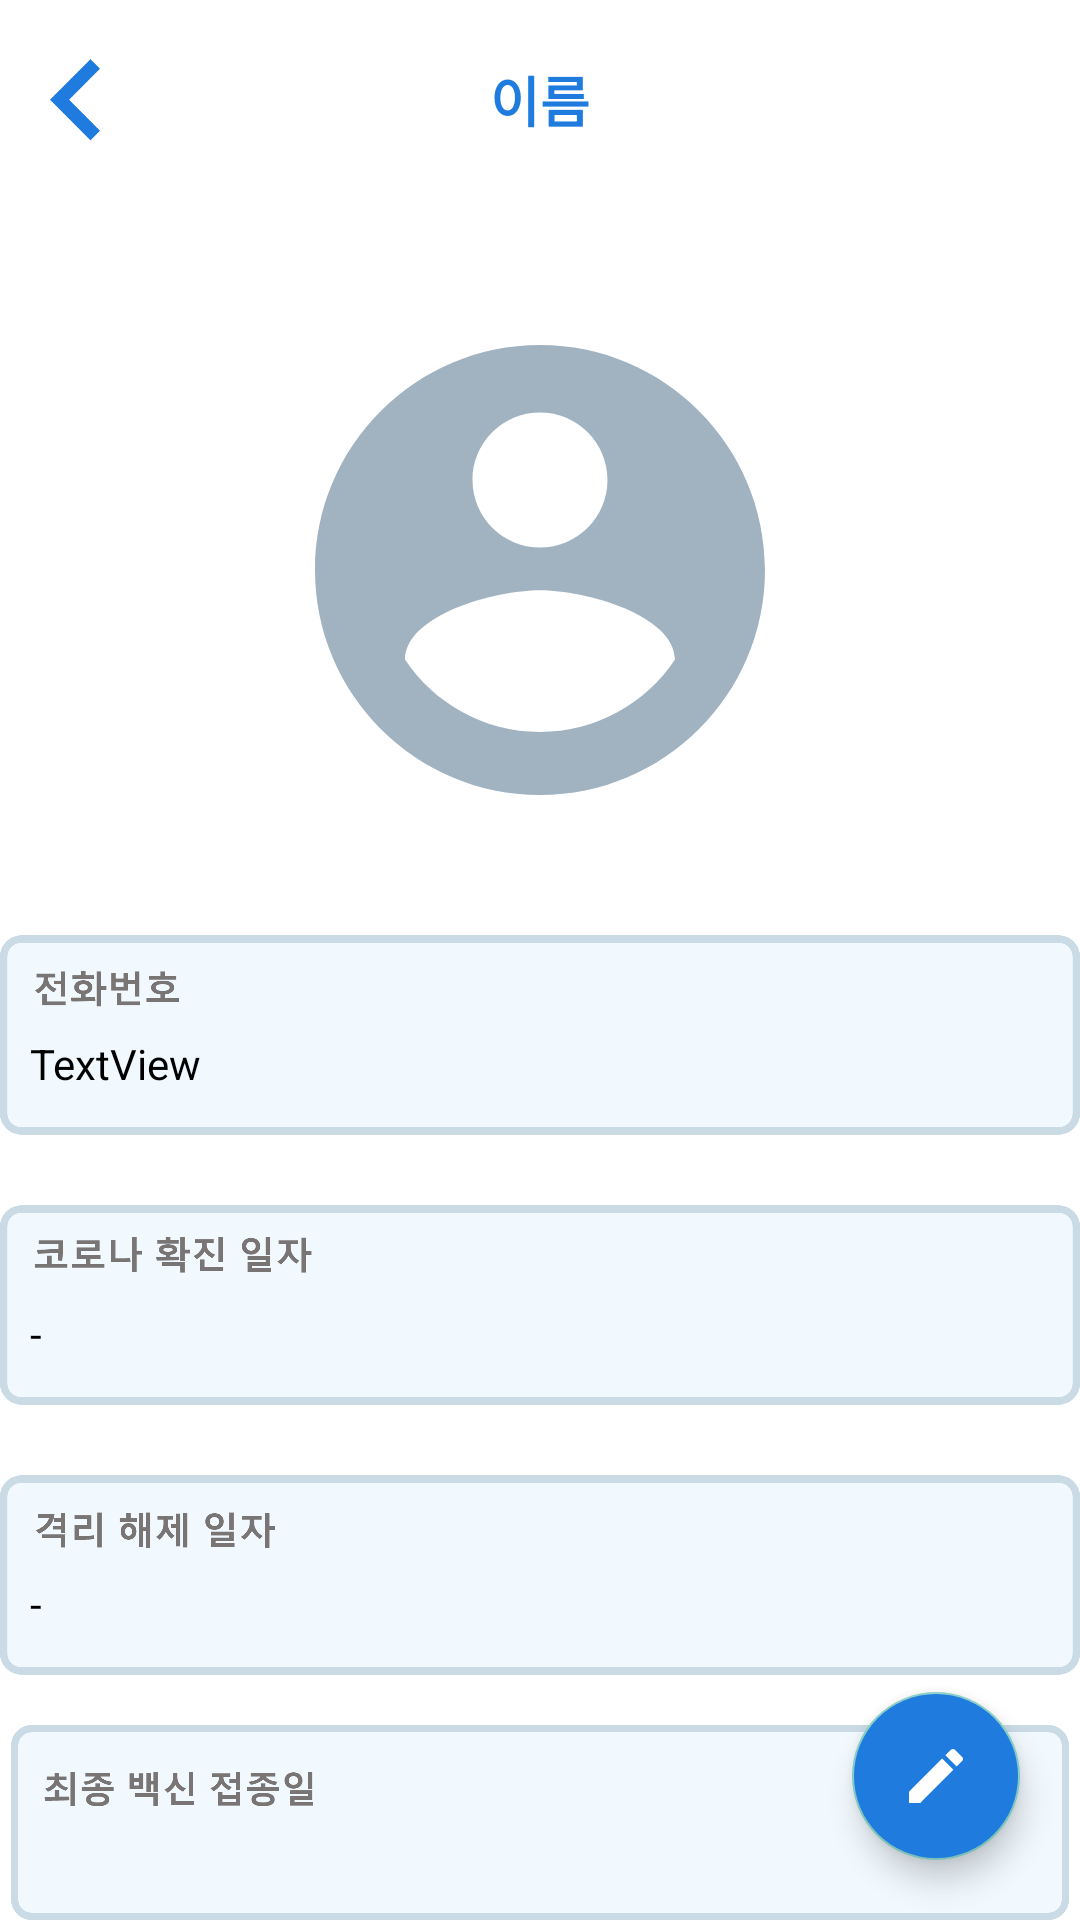

Locate icon controls on the screen. Image size 1080px×1920px, boxes as detection(x1, y1, x2, y2).
back: detection(50, 59, 100, 140)
